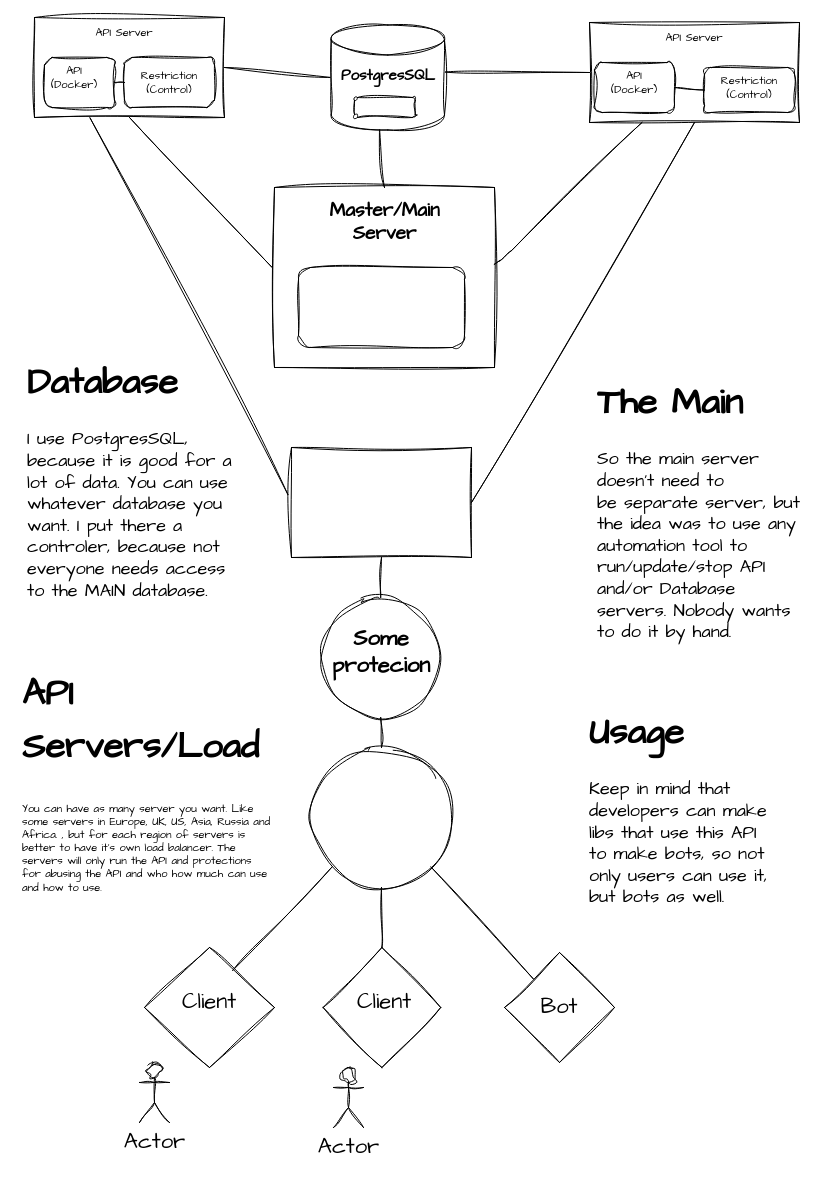
Some shapes in this 829 by 1178 pixel diagram are drawn without their labels. Here are the shapes that lost their labels. From the top down, the centre of each, then its label:
At [384,107]: "Controler".
At [381,307]: "Any Automation Deployment Tool".
At [381,502]: "Load Balancer".
At [381,817]: "API request/ respose".
